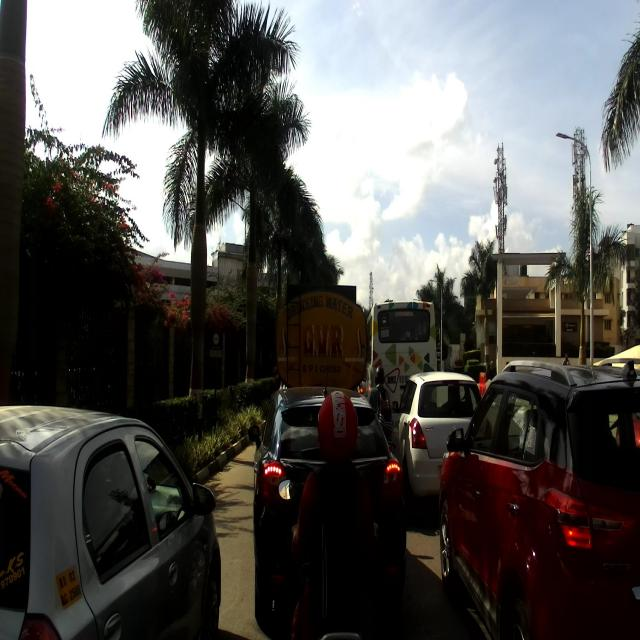Car_Hyundai: (434, 357, 639, 639)
Car_Maruti-Suzuki: (248, 382, 406, 637), (392, 372, 484, 519)
Car_Toyota: (0, 399, 221, 638)
scooter: (276, 476, 400, 639)
